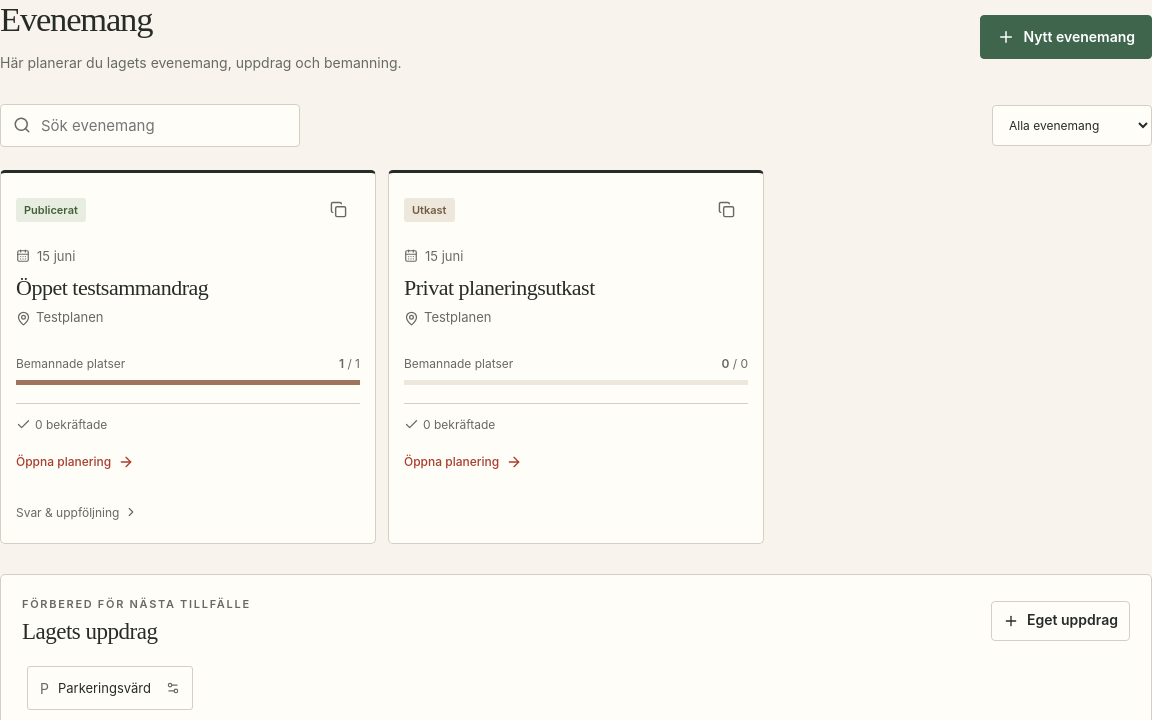
Test case: parent contact emails and individual reminders › explains a missing address instead of offering a reminder that cannot be sent
Click the button "Svar & uppföljning" at (77, 506), box [16,484,138,528]
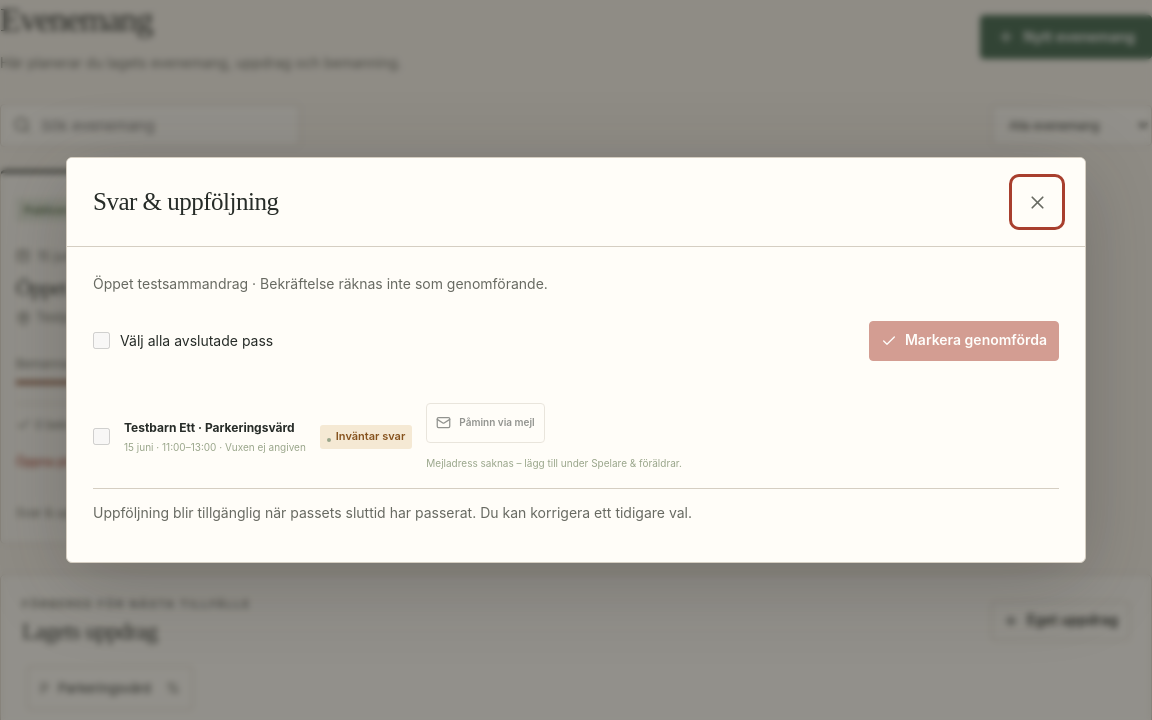
Expected: the button "Påminn via mejl" is disabled, [426,402,545,442]
Expected: the text "Mejladress saknas – lägg till under Spelare & föräldrar." is shown, [426,455,682,471]
